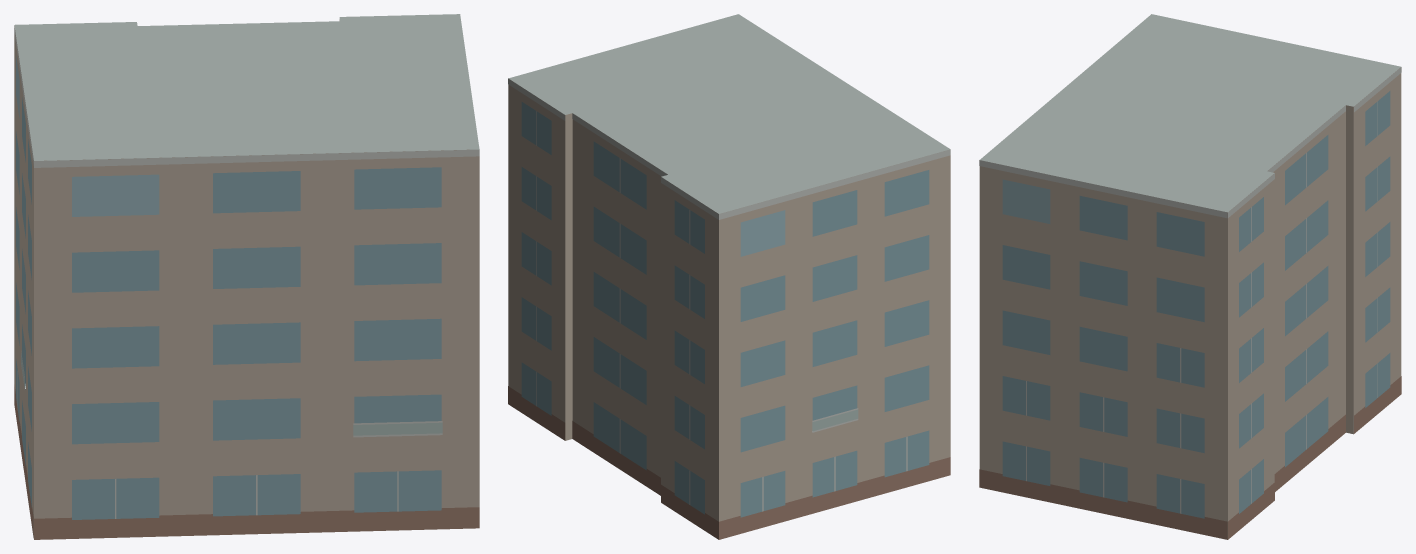
File: survey-upis-32951752.glb
3 renders of one model, left to right at view 1: azimuth 30°, elevation 25°; view 2: azimuth 150°, elevation 25°; view 3: azimuth 270°, elevation 25°, orthographic. The views are drawn at different scales.
Parts seen in each view (by area): view 1: survey-upis-32951752.tmp; view 2: survey-upis-32951752.tmp; view 3: survey-upis-32951752.tmp.
Boxes of the visible parts, bbox=[...] form: survey-upis-32951752.tmp: bbox=[14, 14, 479, 539]; survey-upis-32951752.tmp: bbox=[508, 14, 950, 539]; survey-upis-32951752.tmp: bbox=[979, 14, 1401, 539].
Size of the model in its own units: 17.29 by 13.3 by 15.54.
